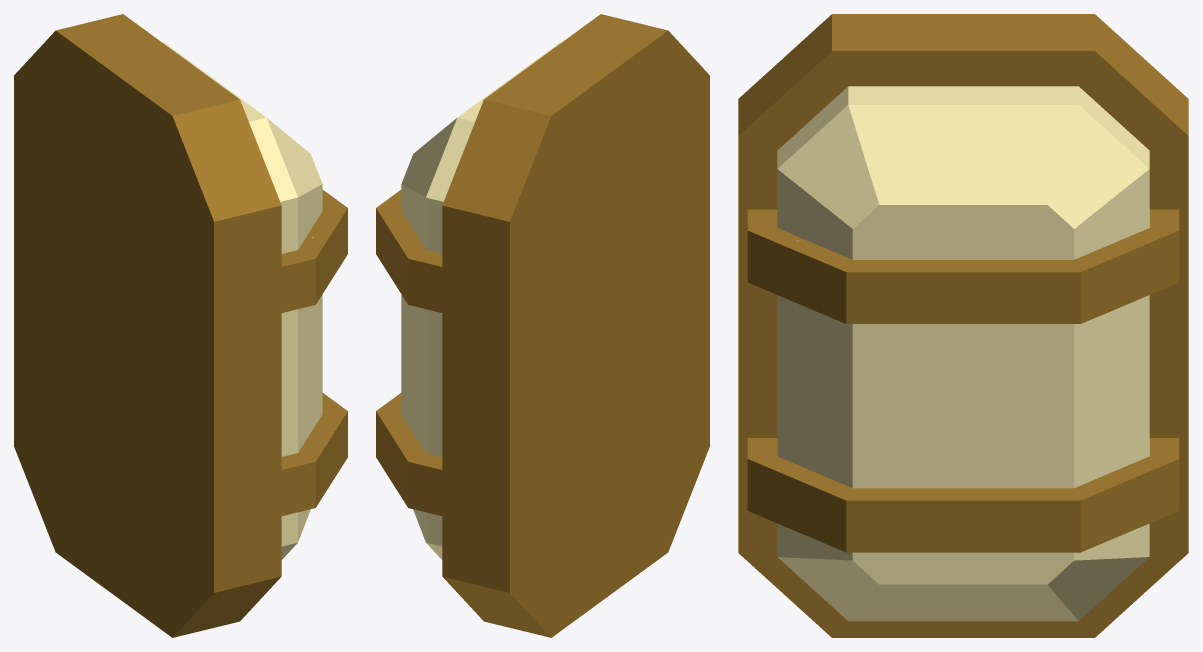
Rendered from wall_light.fbx.
3 renders of one model, left to right at view 1: azimuth 30°, elevation 25°; view 2: azimuth 150°, elevation 25°; view 3: azimuth 270°, elevation 25°, orthographic. The views are drawn at different scales.
Visible parts, largest first — view 1: Cube; view 2: Cube; view 3: Cube.
Part boxes in pixels (bbox=[...]): Cube: bbox=[14, 14, 347, 637]; Cube: bbox=[376, 14, 709, 637]; Cube: bbox=[738, 14, 1188, 637].
Size of the model in its own units: 250 by 685 by 476.
Materials: 1 (1 with a texture image).
